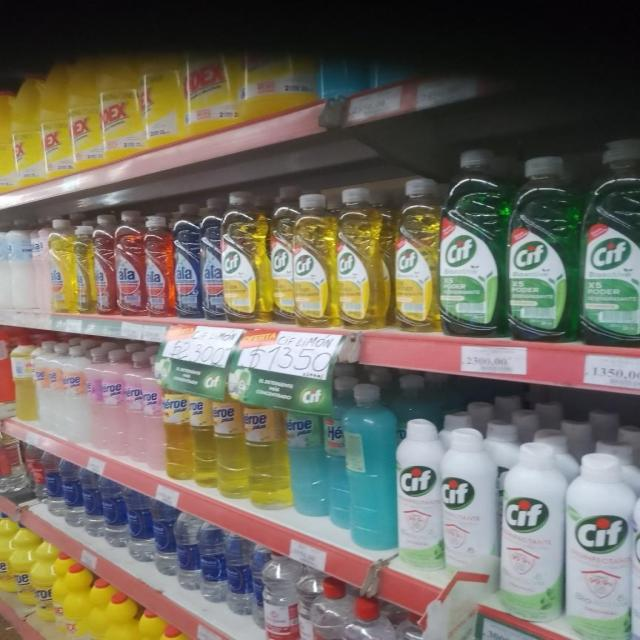ala_conc_amarillo: (75, 220, 93, 314)
ala_conc_azul: (174, 200, 200, 319), (201, 196, 222, 322)
ala_conc_rojo: (144, 212, 172, 318), (116, 211, 143, 317), (94, 214, 115, 316)
ala_crem_blanco: (10, 219, 32, 310), (0, 222, 10, 310)
ala_crem_rosado: (32, 218, 50, 312)
cif_conc_bot_amarilla: (336, 186, 389, 330), (393, 177, 439, 334), (222, 190, 268, 324), (294, 190, 334, 328), (269, 188, 293, 326)
cif_conc_botella_verde: (507, 154, 577, 343), (580, 138, 640, 348), (441, 148, 504, 338)
heroe: (214, 366, 246, 500), (47, 344, 89, 444), (90, 346, 126, 456), (138, 348, 163, 472)
